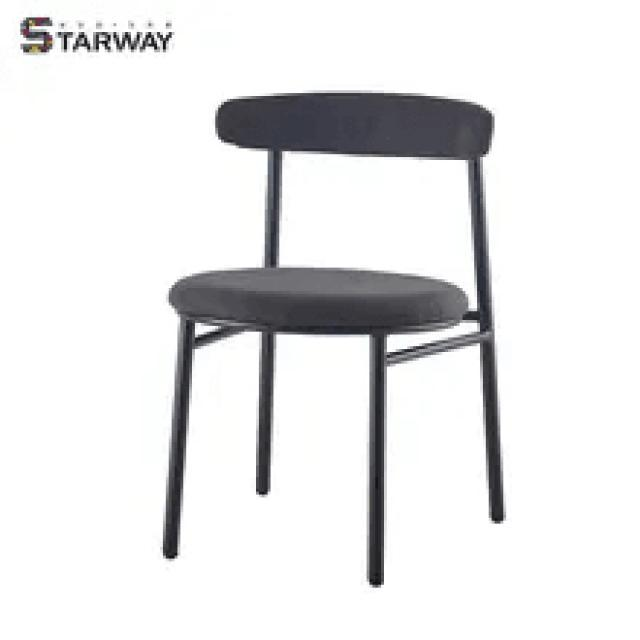chair: (155, 83, 508, 588), (168, 88, 497, 336)
